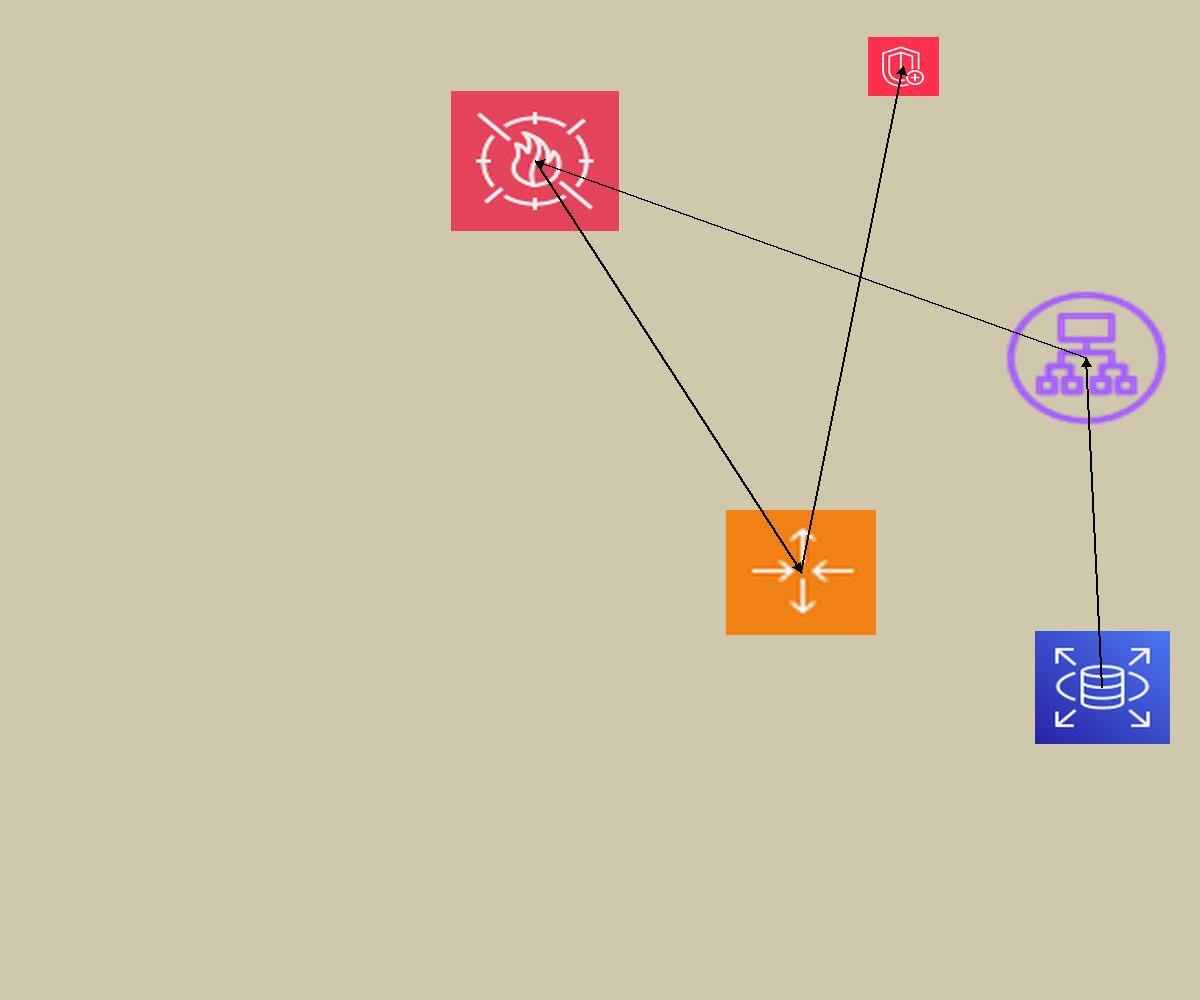AWS-RDS: (1035, 631, 1170, 744)
AWS-Res_Elastic-Load-Balancing_Application-Load-Balancer: (1000, 286, 1173, 430)
AWS-Scaling-group: (726, 510, 876, 635)
AWS-Shield: (868, 37, 939, 96)
AWS-WAF: (451, 91, 619, 231)
